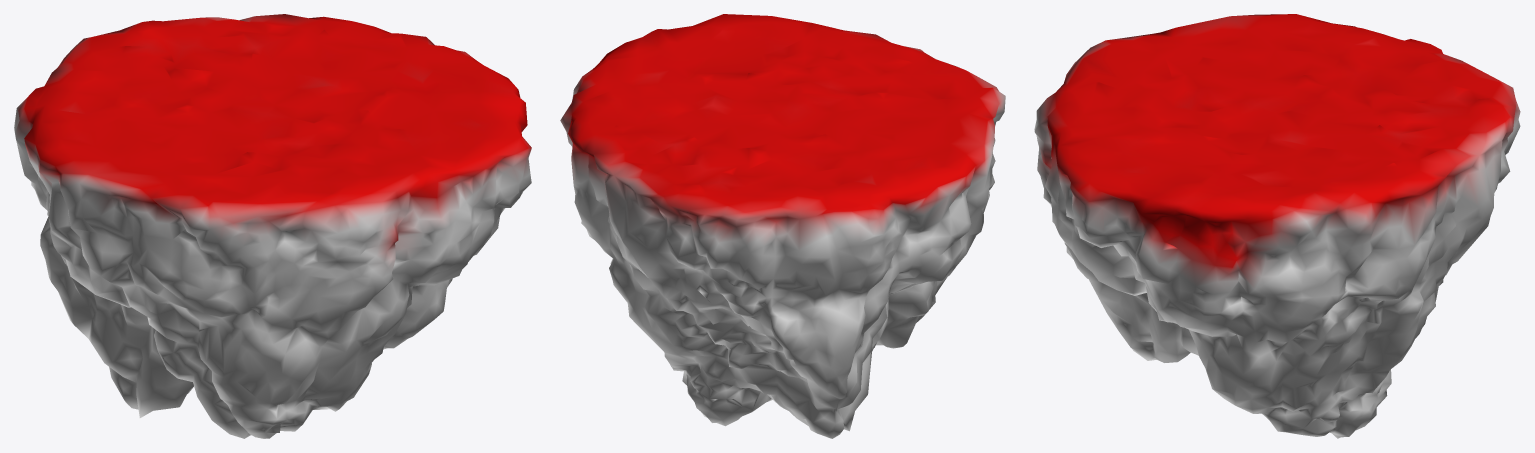
File: memoryislandwithvertexpaint.fbx
The picture shows the model from 3 angles, left to right: view 1: azimuth 30°, elevation 25°; view 2: azimuth 150°, elevation 25°; view 3: azimuth 270°, elevation 25°; orthographic projection. The views are drawn at different scales.
Visible parts, largest first — view 1: Floating_Island_10_LOD_3.001; view 2: Floating_Island_10_LOD_3.001; view 3: Floating_Island_10_LOD_3.001.
Boxes of the visible parts, x1=… form: Floating_Island_10_LOD_3.001: x1=14, y1=14, x2=531, y2=438; Floating_Island_10_LOD_3.001: x1=560, y1=14, x2=1005, y2=438; Floating_Island_10_LOD_3.001: x1=1034, y1=14, x2=1520, y2=438.
Size of the model in its own units: 2212 by 1591 by 2211.
